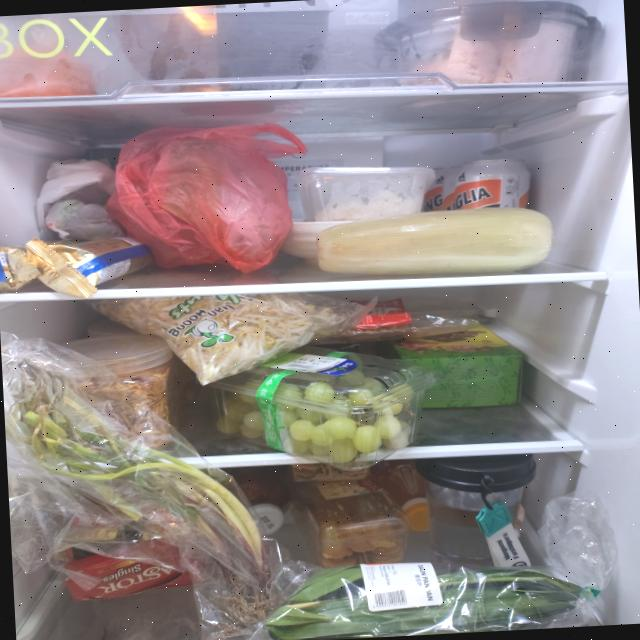bean_sprouts: (89, 286, 352, 394)
corn: (314, 204, 556, 284)
grape: (214, 366, 415, 472)
leafy_greens: (262, 551, 586, 640)
spring_onion: (1, 345, 276, 640)
unknown_bag: (100, 118, 314, 282)
